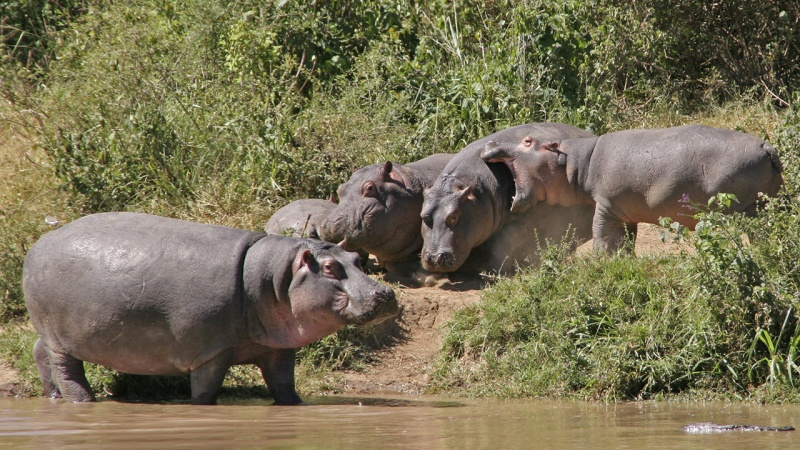hipopotamo: (17, 210, 399, 418), (489, 131, 784, 247), (424, 122, 597, 269), (331, 156, 427, 278)
